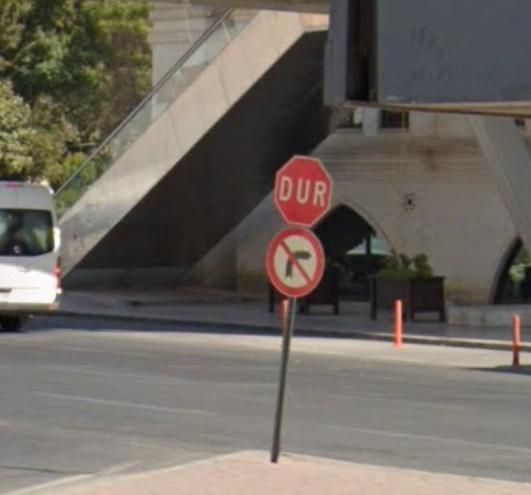rightturnsareforbidden: (267, 229, 324, 296)
stop: (275, 156, 333, 228)
